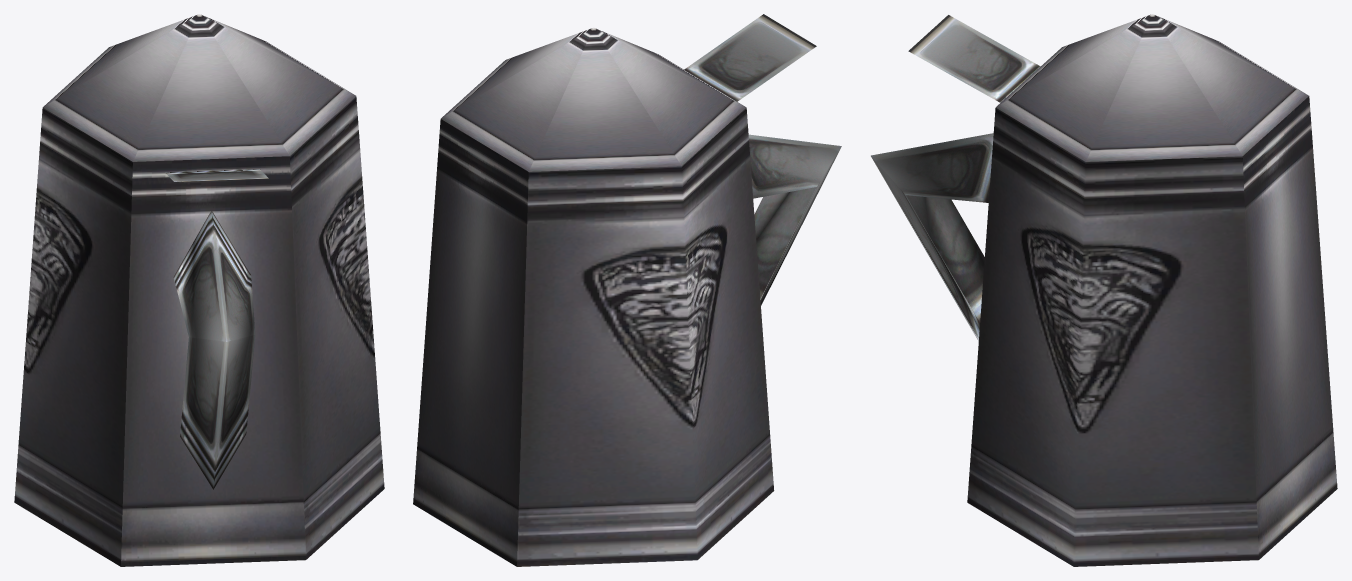
The model's file is stein.obj.
The picture shows the model from 3 angles, left to right: view 1: azimuth 30°, elevation 25°; view 2: azimuth 150°, elevation 25°; view 3: azimuth 270°, elevation 25°; orthographic projection. The views are drawn at different scales.
Parts seen in each view (by area): view 1: Geoset2, Geoset1, Geoset0; view 2: Geoset1, Geoset2, Geoset0; view 3: Geoset1, Geoset2, Geoset0.
Boxes of the visible parts, box(x1,y1,x2,y2) form: Geoset2: box(43, 14, 355, 566); Geoset1: box(14, 96, 384, 566); Geoset0: box(165, 169, 268, 489); Geoset1: box(517, 108, 774, 566); Geoset2: box(413, 27, 746, 566); Geoset0: box(684, 14, 841, 305); Geoset1: box(967, 108, 1258, 566); Geoset2: box(996, 14, 1337, 559); Geoset0: box(871, 15, 1040, 341).
Bounding box in the file's own units: 0.1996 × 0.315 × 0.2768.
Materials: 3 (3 with a texture image).
